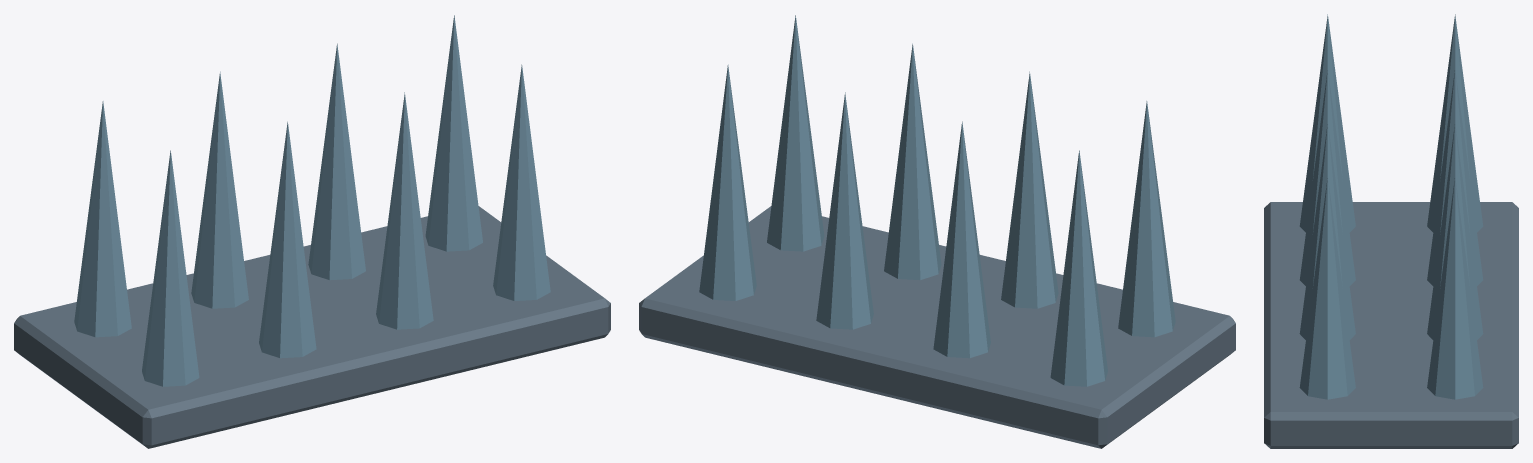
File: SH10_L10_MirrorSpikes.fbx
The picture shows the model from 3 angles, left to right: view 1: azimuth 30°, elevation 25°; view 2: azimuth 150°, elevation 25°; view 3: azimuth 270°, elevation 25°; orthographic projection. The views are drawn at different scales.
Visible parts, largest first — view 1: SH10_L10_MirrorSpikes; view 2: SH10_L10_MirrorSpikes; view 3: SH10_L10_MirrorSpikes.
Part boxes in pixels (x1=…): SH10_L10_MirrorSpikes: x1=14, y1=15, x2=610, y2=448; SH10_L10_MirrorSpikes: x1=639, y1=15, x2=1235, y2=448; SH10_L10_MirrorSpikes: x1=1264, y1=14, x2=1518, y2=448.
Size of the model in its own units: 200 by 108 by 100.
